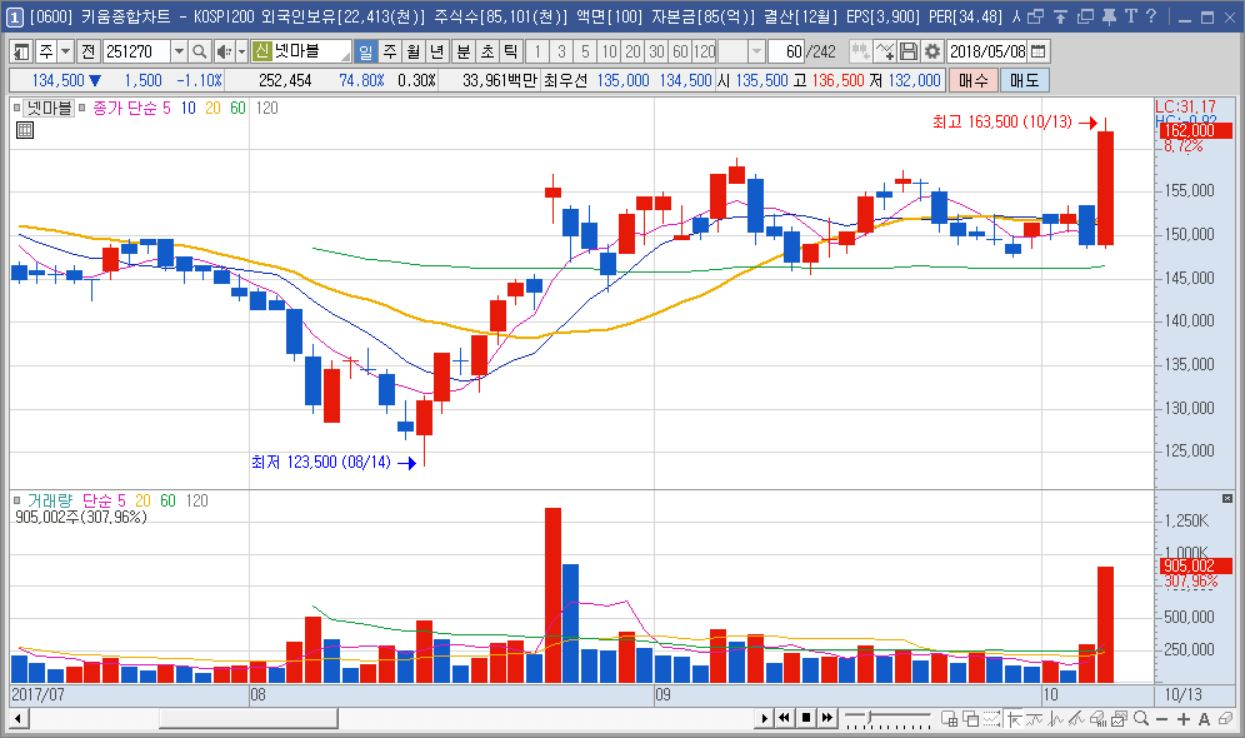up: (415, 112, 1116, 681)
